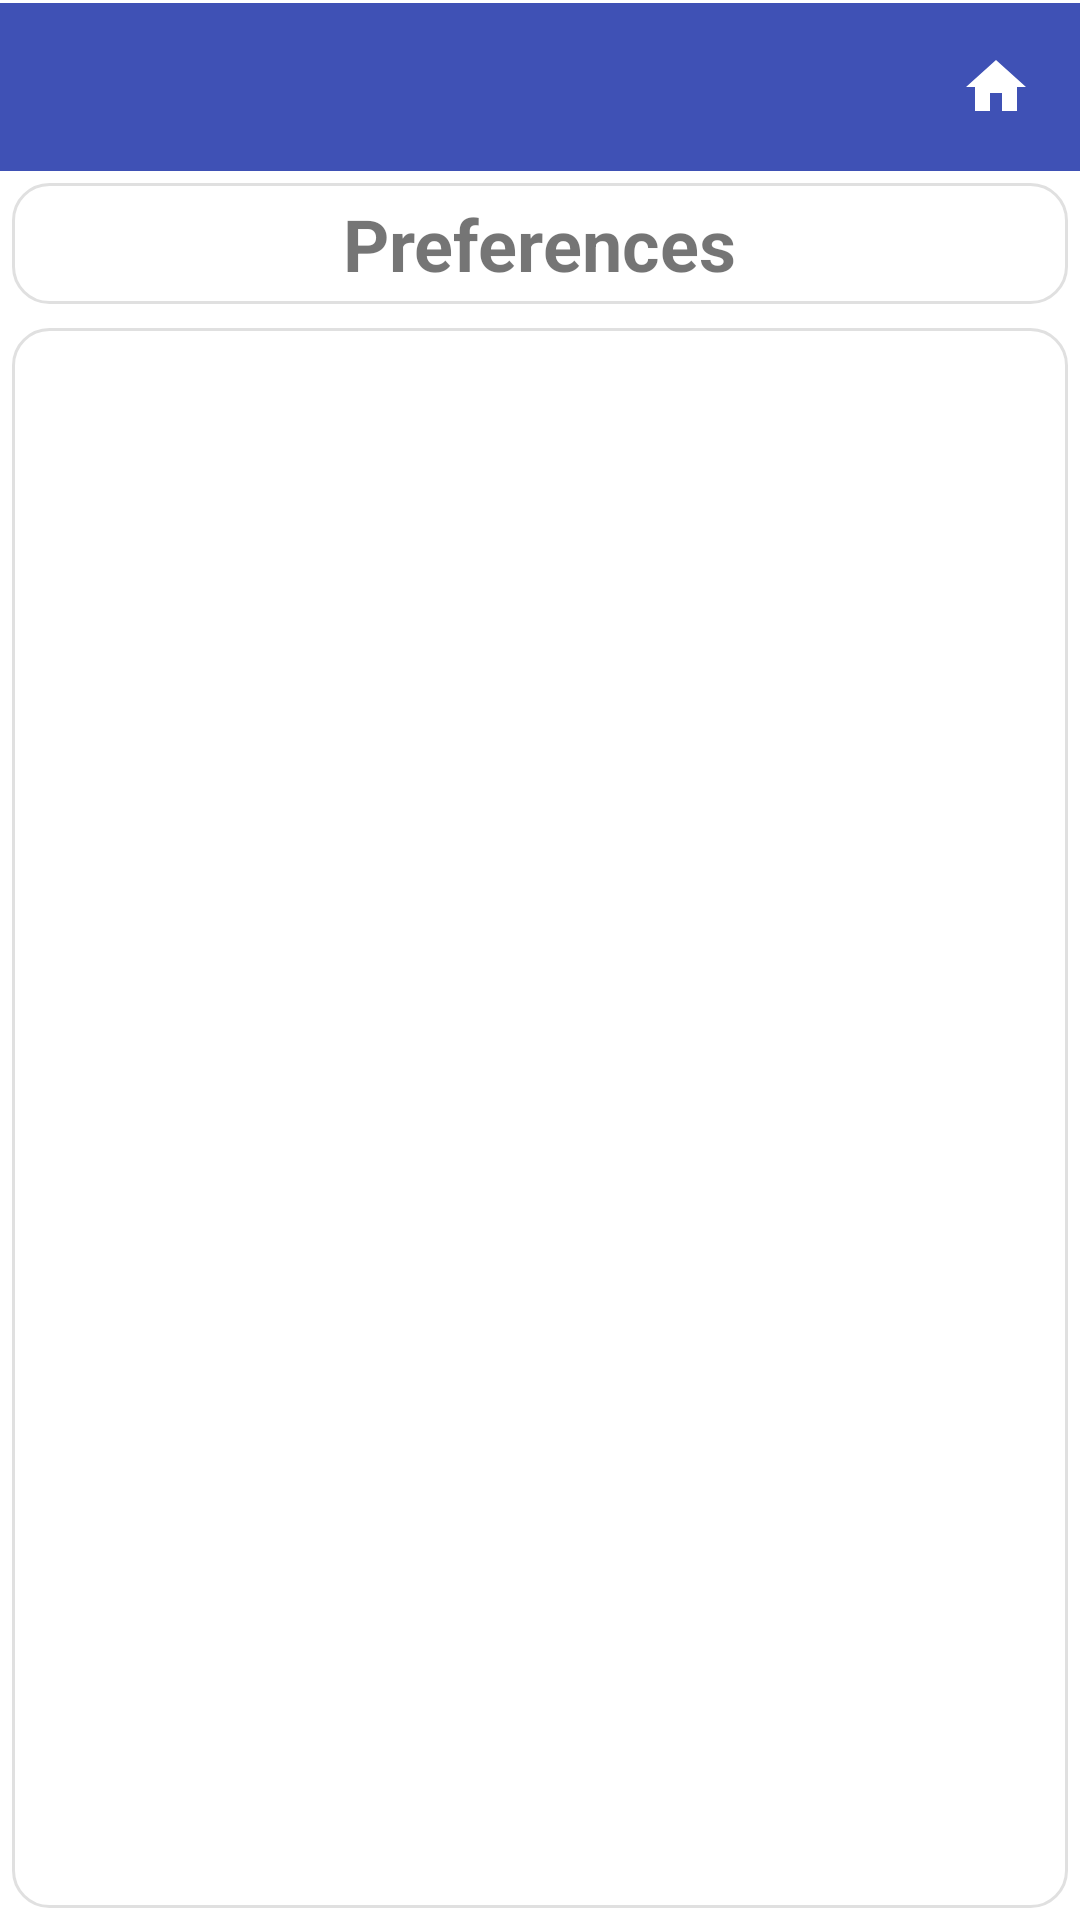

Named icons in this screenshot (1080w x 1920h) and their bounding boxes, box(x1, y1, x2, y2):
Home: box(966, 60, 1026, 111)
